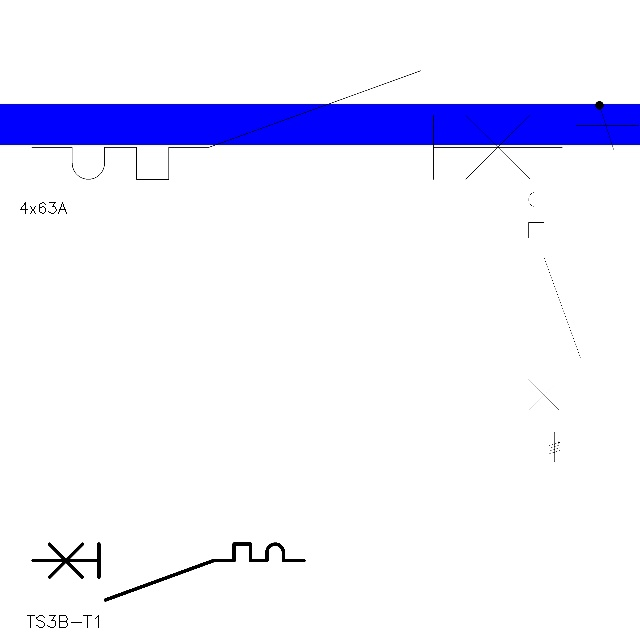interruptor_termomagnetico: (18, 57, 575, 193), (26, 537, 311, 607), (522, 166, 587, 432)
